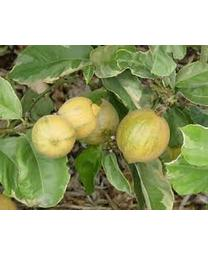lemon: (118, 109, 170, 163), (57, 96, 101, 141), (33, 117, 76, 157)
